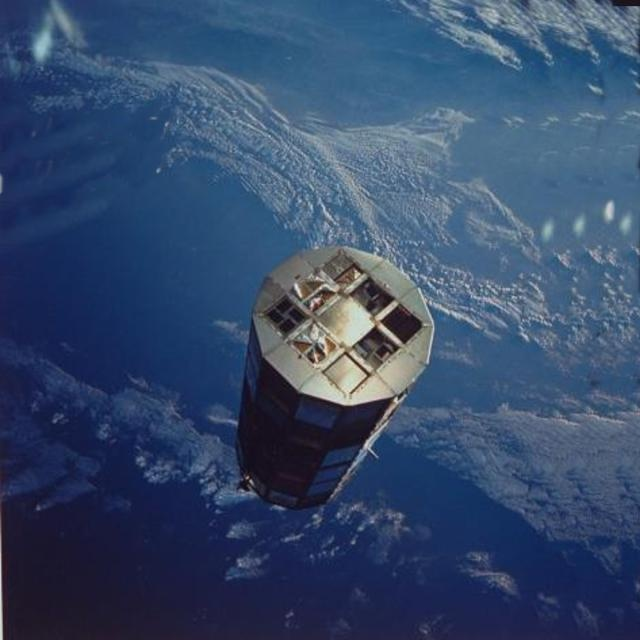medium_debris: (227, 232, 437, 529)
